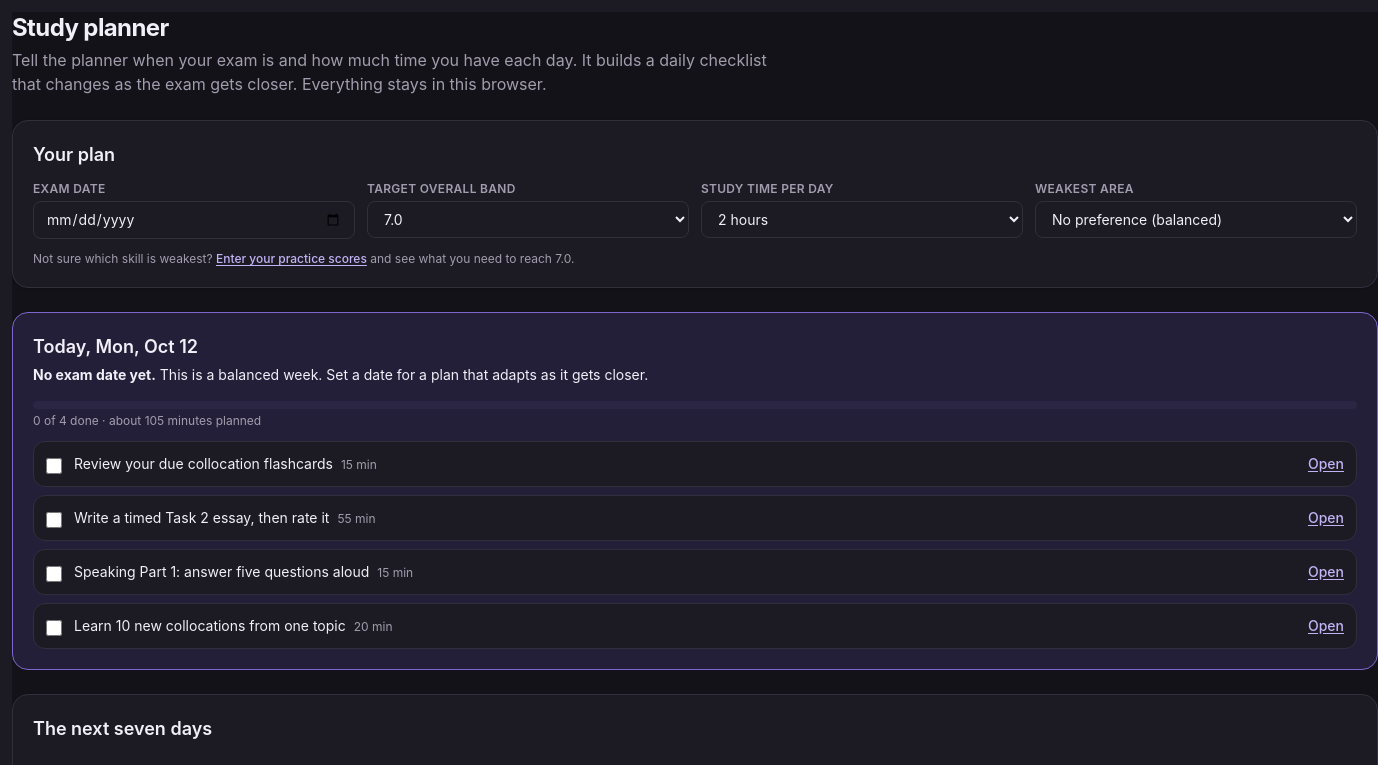
Scenario: StudyPlanner › counts down to the exam and changes phase with the time left
Type "2026-10-22" into the date field labelled "Exam date" at [194, 220], box [33,201,355,239]
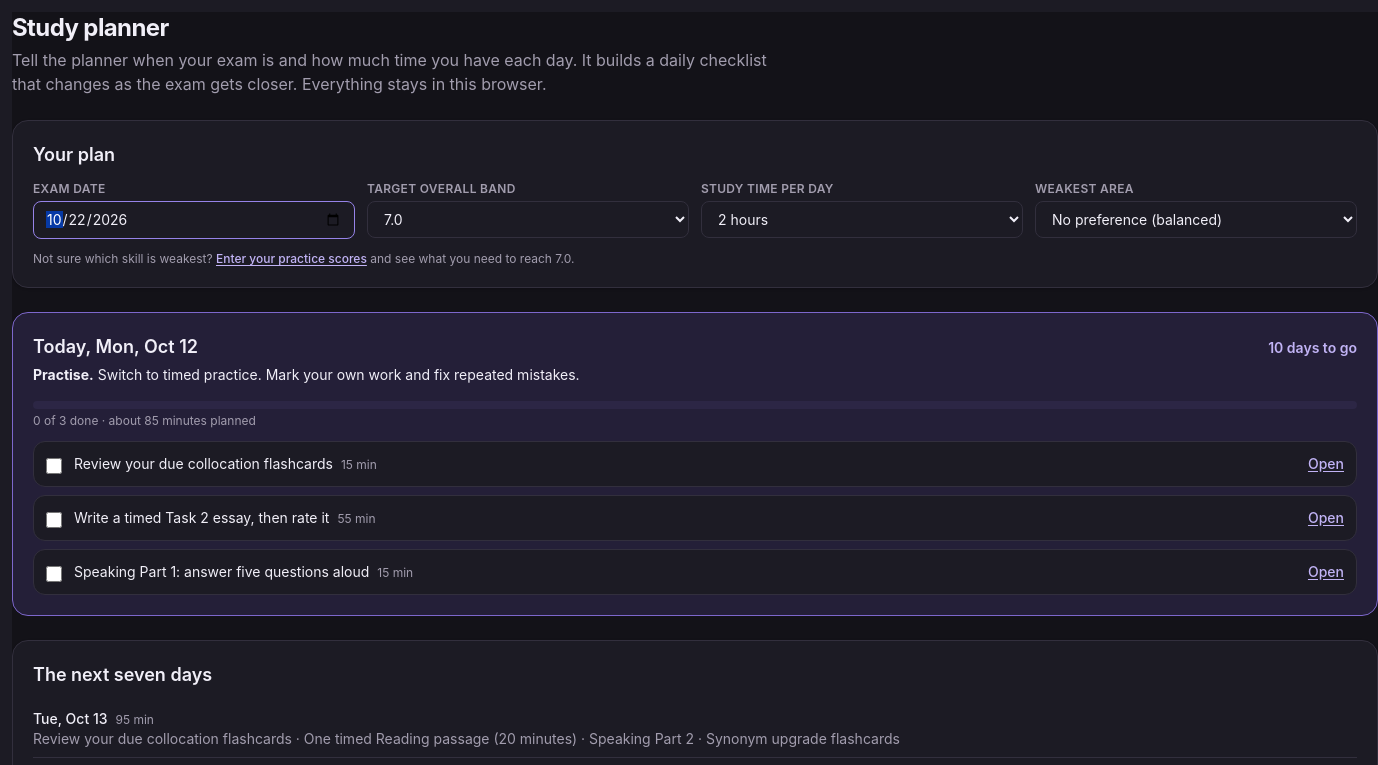
Now the text with test id "days-left" reads "10 days to go", box [1268,339,1357,356]
Now the element with test id "phase" shows "Practise", box [33,366,89,383]
Type "2026-10-13" into the date field labelled "Exam date" at [194, 220], box [33,201,355,239]
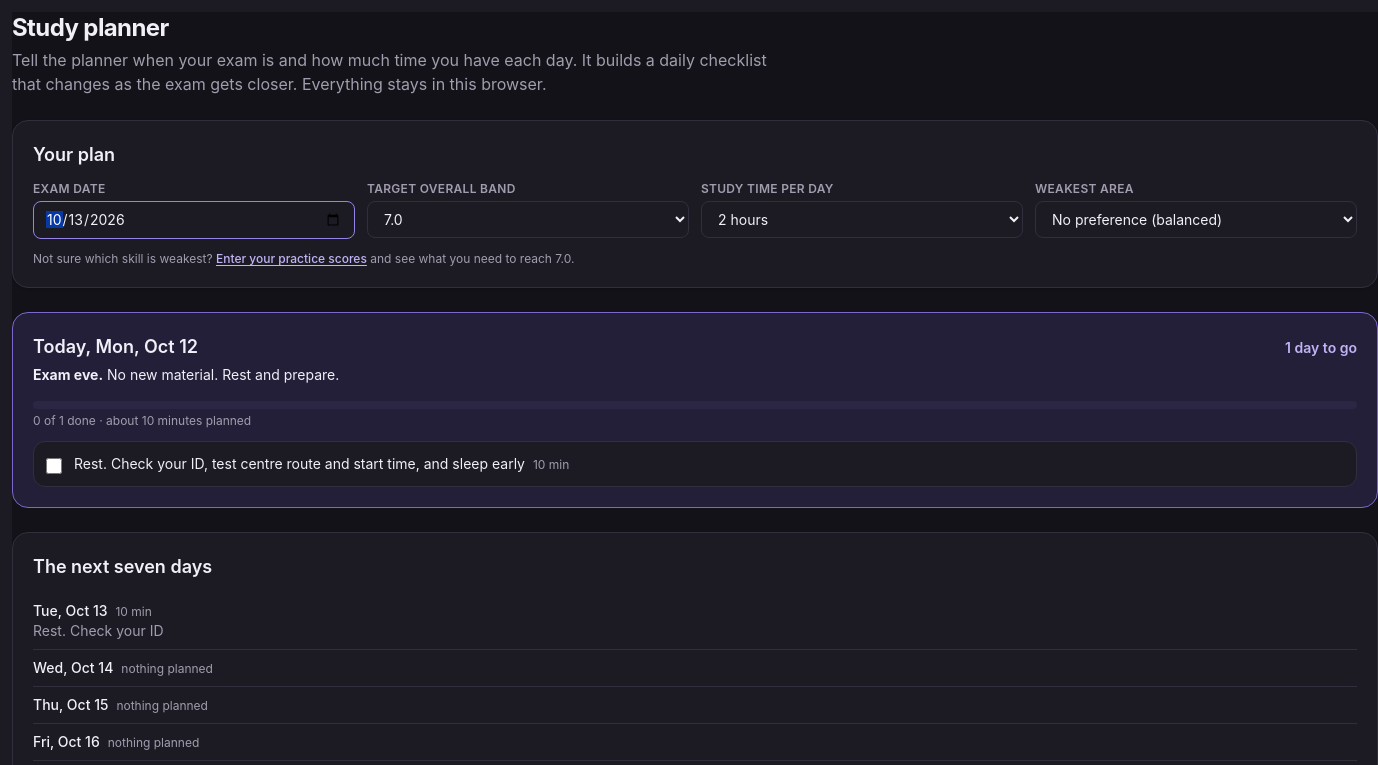
Expected: the checkbox labelled "Rest. Check your ID" is shown, [46,458,62,474]
Now the element with test id "phase" shows "Exam eve", box [33,366,98,383]
